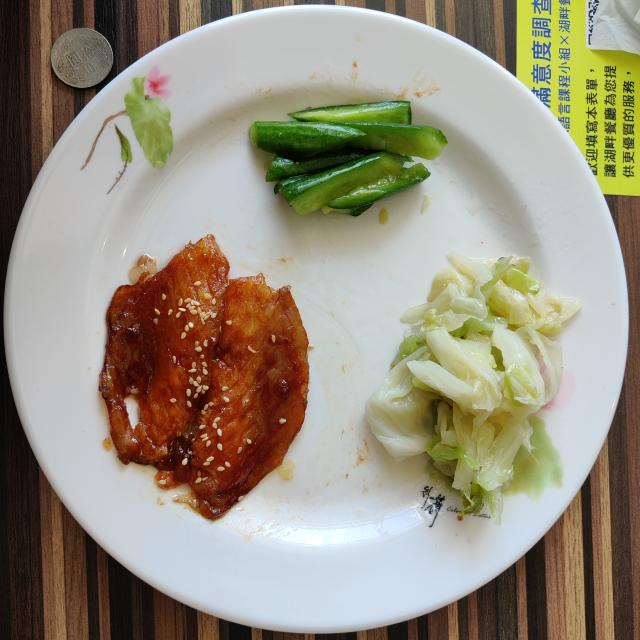Kabayaki sea bream fillet: (100, 235, 309, 519)
cabbage: (366, 251, 581, 522)
coin: (51, 29, 114, 88)
cucumber: (250, 101, 446, 215)
